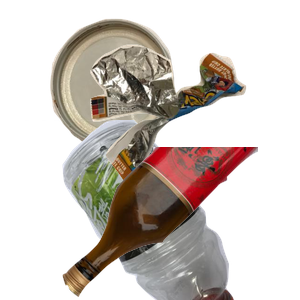glass: (60, 147, 300, 300)
metal: (47, 16, 214, 157)
plastic: (25, 120, 252, 300)
trash: (88, 42, 300, 219)
